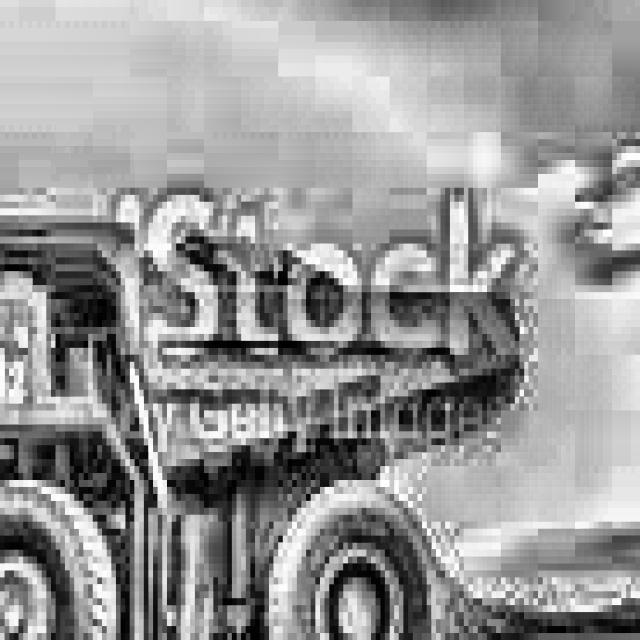dump_truck: (0, 139, 524, 640)
